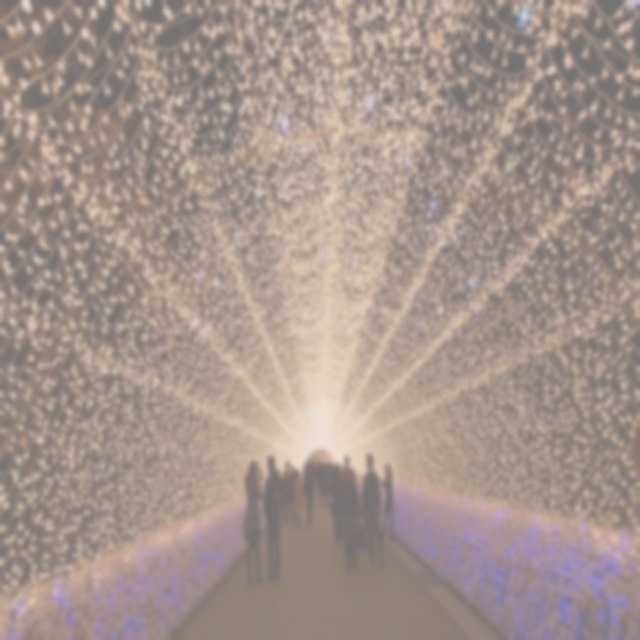pessoa: (330, 461, 362, 572), (359, 451, 386, 571), (262, 453, 286, 587), (242, 459, 264, 586), (378, 458, 396, 546), (302, 458, 342, 488), (329, 462, 342, 546), (303, 464, 317, 528), (292, 468, 304, 531), (281, 458, 292, 524), (346, 466, 361, 514), (288, 462, 300, 519), (272, 468, 283, 524), (316, 458, 324, 506), (344, 454, 356, 484), (324, 464, 332, 506)
